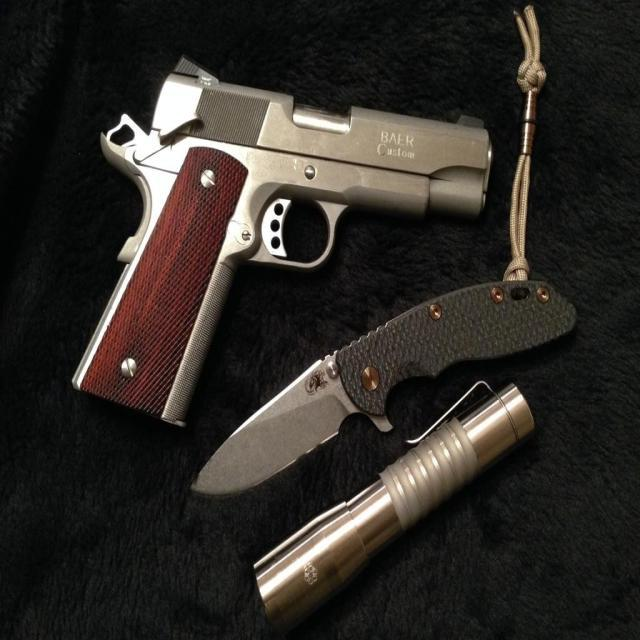faca: (193, 279, 575, 494)
